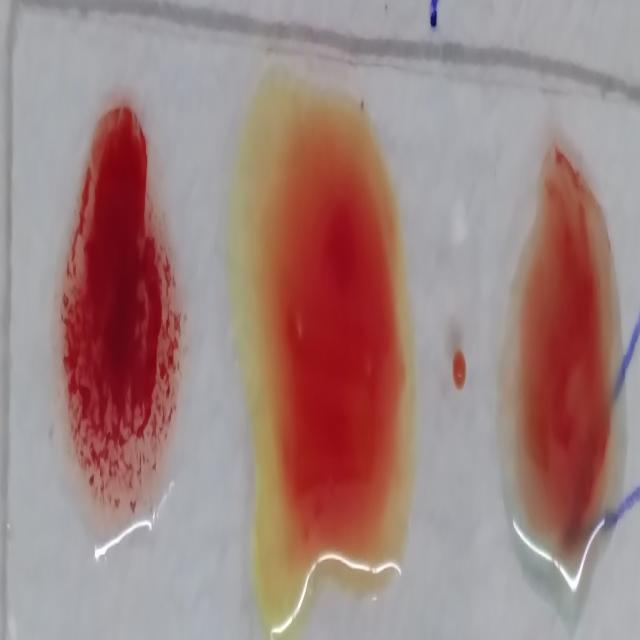D: (56, 117, 180, 506)
